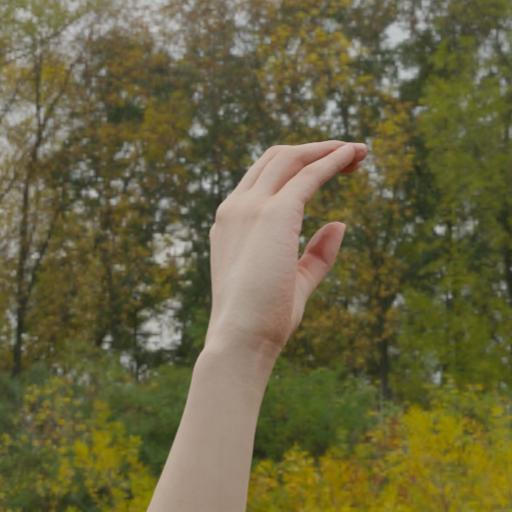C: (178, 120, 404, 402)
